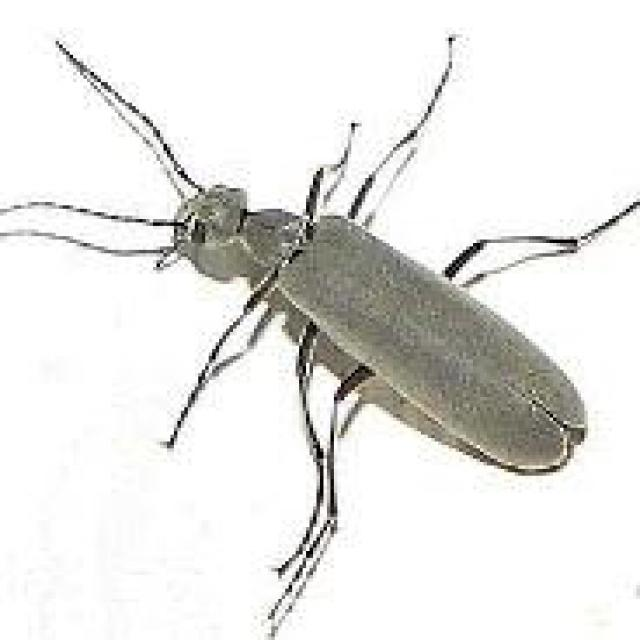BlisterBeetle-Adult-: (43, 41, 613, 532)
